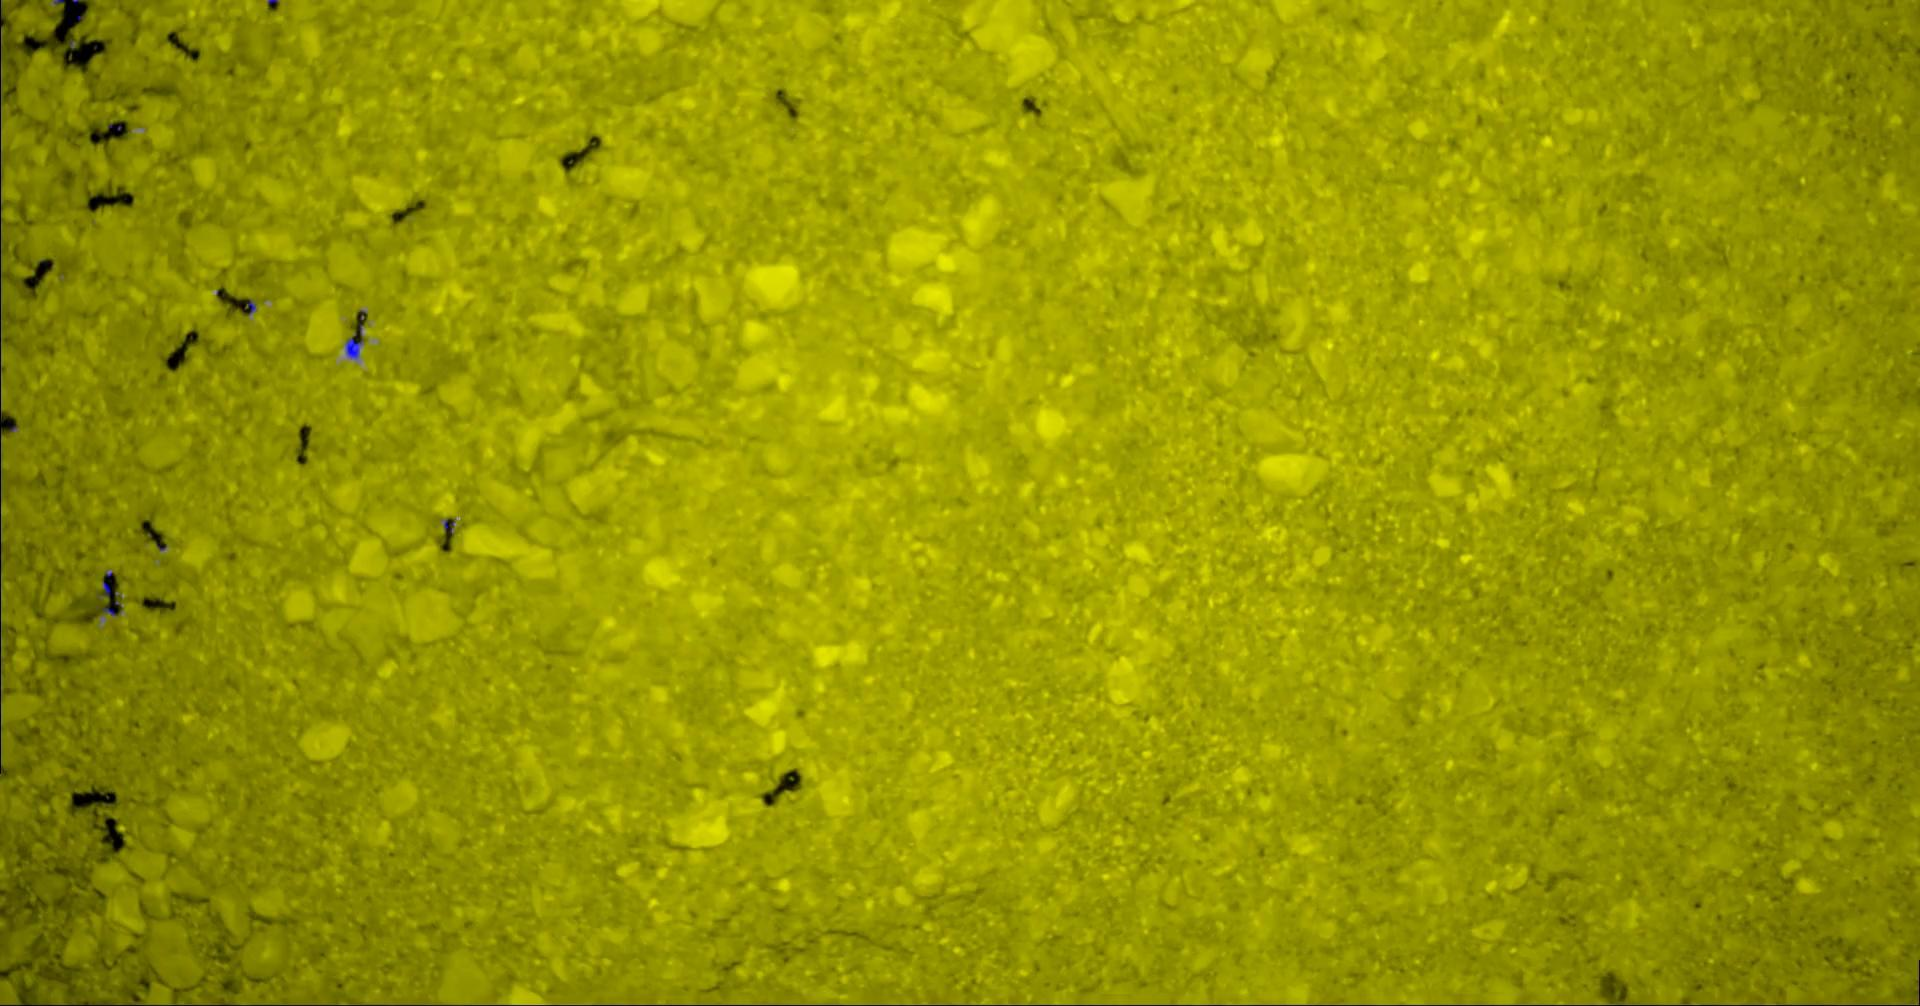ant: (345, 324, 363, 359), (97, 580, 117, 597)
